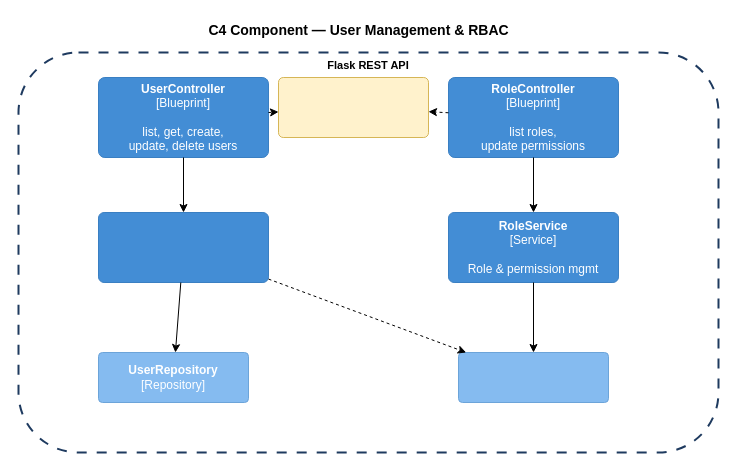
Some shapes in this 736 by 470 pixel diagram are drawn without their labels. Here are the shapes that lost their labels. From the top down, the box of each, then its label:
(278, 76, 428, 138): AuthMiddleware [Decorator] JWT + RBAC check
(98, 212, 268, 282): UserService [Service] User CRUD, role assignment
(458, 352, 608, 402): RoleRepository [Repository]
